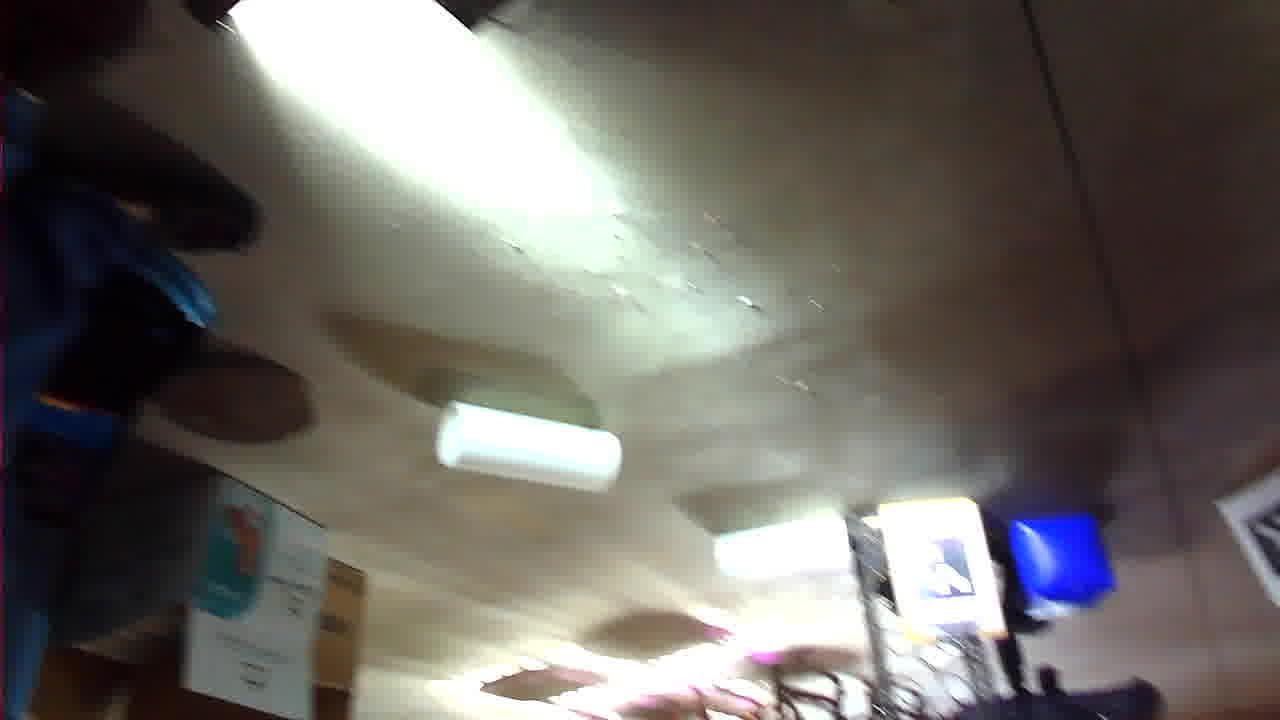coral: (658, 228, 845, 320), (432, 139, 565, 205)
